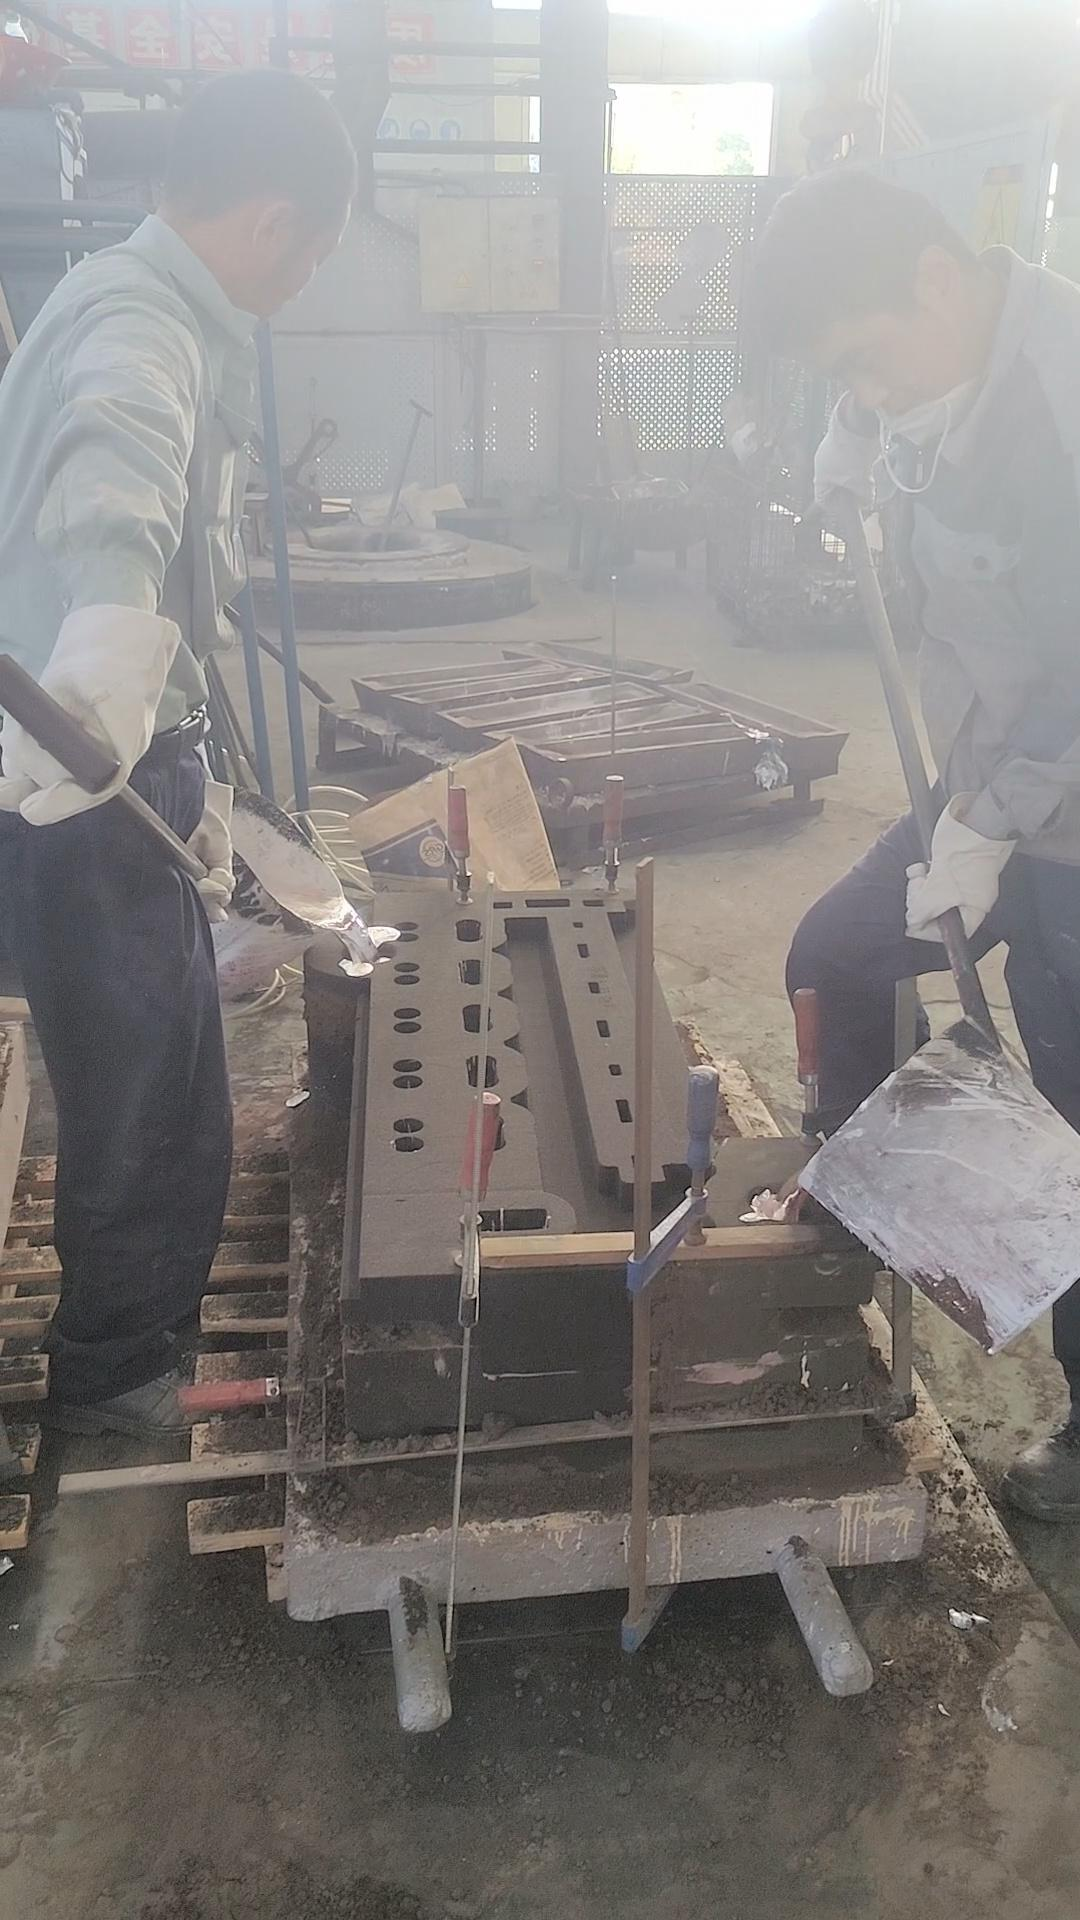pouring hole: (746, 1176, 824, 1228), (338, 935, 400, 968)
